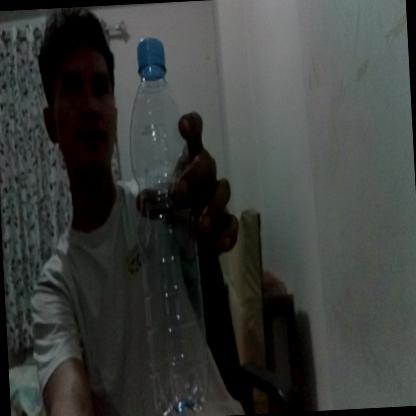plastic_bottles: (123, 35, 212, 416)
